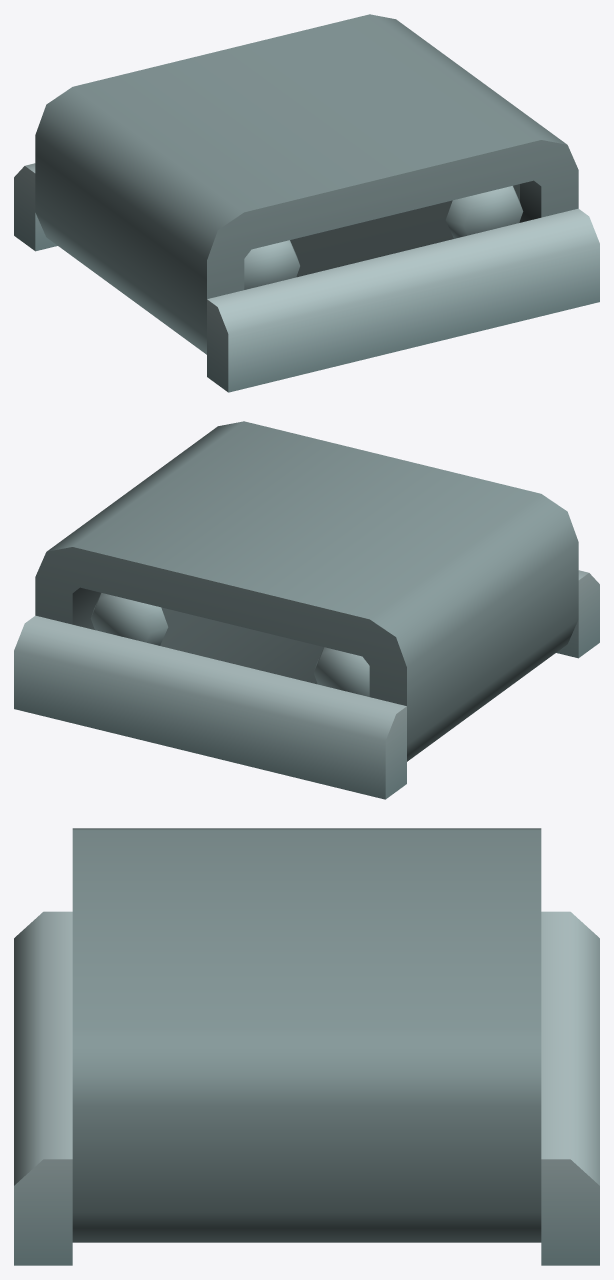
File: conveyor-sides.glb
The picture shows the model from 3 angles, top to bottom: view 1: azimuth 30°, elevation 25°; view 2: azimuth 150°, elevation 25°; view 3: azimuth 270°, elevation 25°; orthographic projection. The views are drawn at different scales.
Visible parts, largest first — view 1: conveyor-sides; view 2: conveyor-sides; view 3: conveyor-sides.
Boxes of the visible parts, x1=… form: conveyor-sides: x1=14, y1=14, x2=599, y2=392; conveyor-sides: x1=14, y1=421, x2=599, y2=799; conveyor-sides: x1=14, y1=828, x2=599, y2=1265.
Size of the model in its own units: 1 by 0.4 by 1.
1 material, 1 textured.
